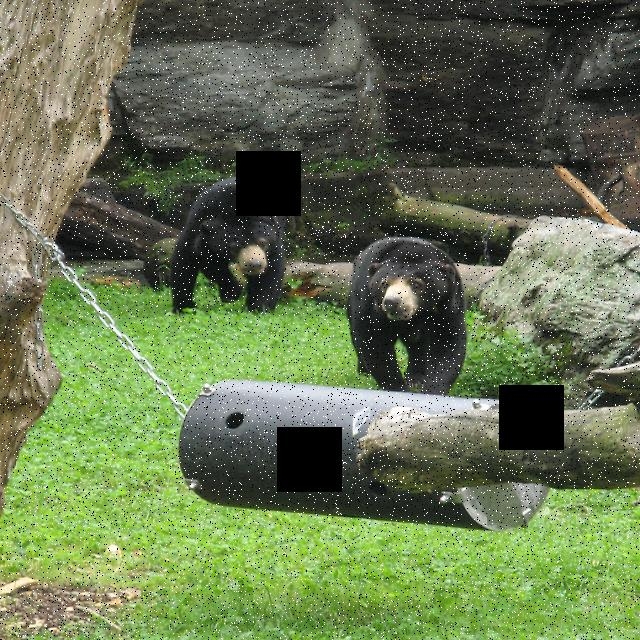Bear: (336, 237, 494, 391), (164, 175, 302, 308)
